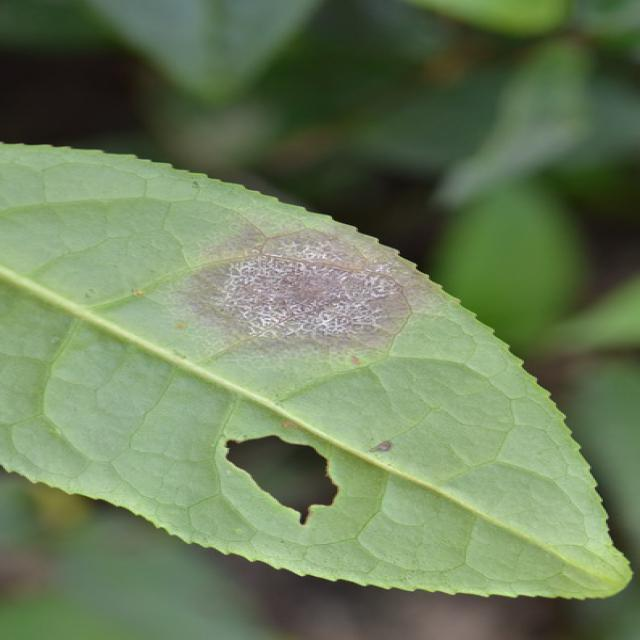Tea exobasidium blight: (205, 214, 420, 354)
